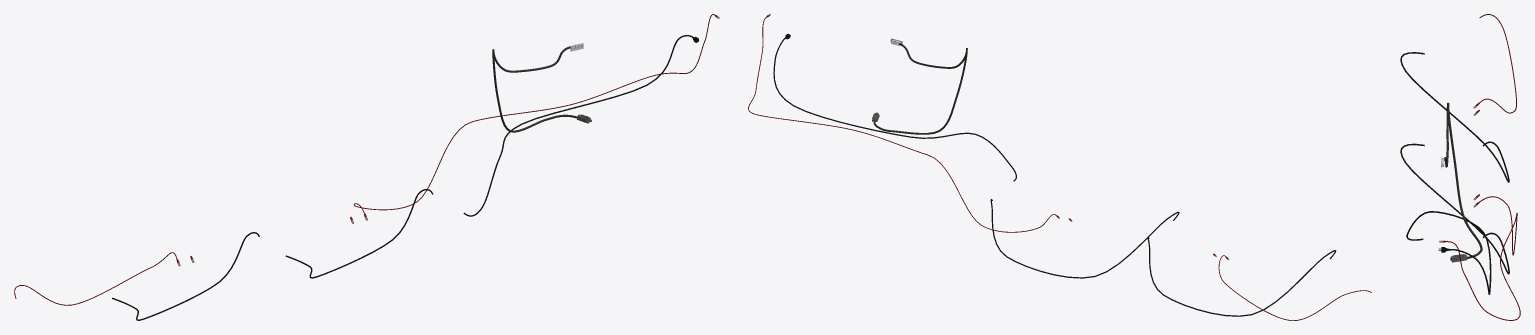
File: Wiring.fbx
3 renders of one model, left to right at view 1: azimuth 30°, elevation 25°; view 2: azimuth 150°, elevation 25°; view 3: azimuth 270°, elevation 25°, orthographic. The views are drawn at different scales.
Visible parts, largest first — view 1: Line060, Line045; view 2: Line060, Line045, Line052, Line046; view 3: Line060, Line045, Line052, Line046, Line054, Line062, Line053.
Part boxes in pixels (bbox=[...]): Line060: bbox=[353, 14, 714, 213]; Line045: bbox=[463, 35, 692, 216]; Line060: bbox=[748, 17, 1056, 232]; Line045: bbox=[773, 38, 1016, 181]; Line052: bbox=[1147, 237, 1336, 316]; Line046: bbox=[990, 199, 1179, 278]; Line060: bbox=[1447, 196, 1520, 320]; Line045: bbox=[1406, 211, 1491, 294]; Line052: bbox=[1400, 52, 1509, 182]; Line046: bbox=[1400, 143, 1509, 274]; Line054: bbox=[1448, 102, 1482, 258]; Line062: bbox=[1479, 14, 1516, 113]; Line053: bbox=[1444, 103, 1448, 167].
Size of the model in its own units: 175 by 24.55 by 49.78.
